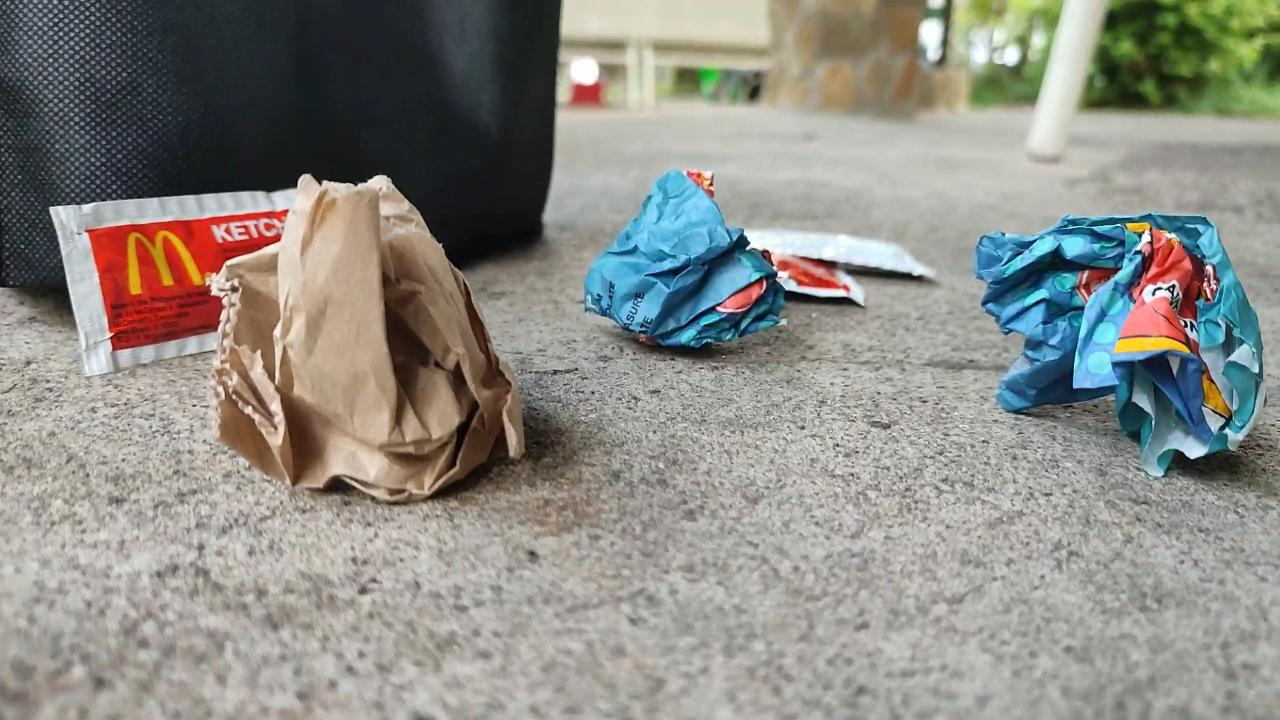paper: (200, 160, 553, 510), (974, 175, 1269, 480), (580, 161, 794, 367)
